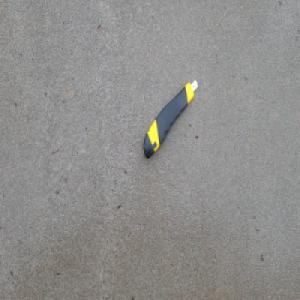Cutter: (142, 76, 199, 159)
